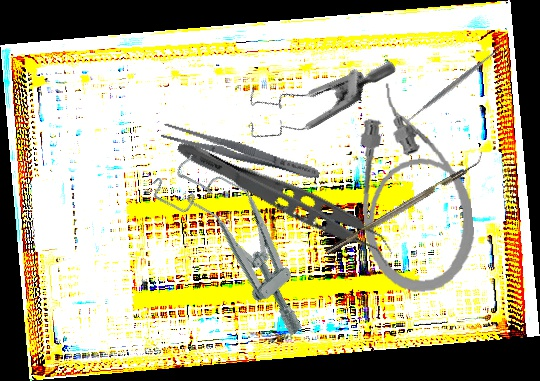Cannula: (350, 75, 480, 299)
Chopper: (320, 149, 489, 256)
Dressing Forceps: (159, 120, 323, 185)
Spatula Surgical: (397, 40, 508, 132)
Speculum: (146, 139, 337, 347), (228, 4, 399, 183)
Tissue Forceps: (167, 135, 402, 269)
